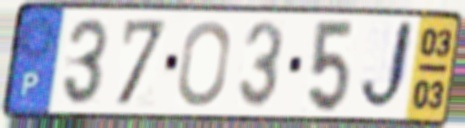3: (59, 16, 111, 108), (237, 18, 286, 112)
5: (304, 17, 355, 116)
7: (117, 15, 171, 110)
J: (356, 17, 418, 117)
O: (175, 18, 233, 109)
